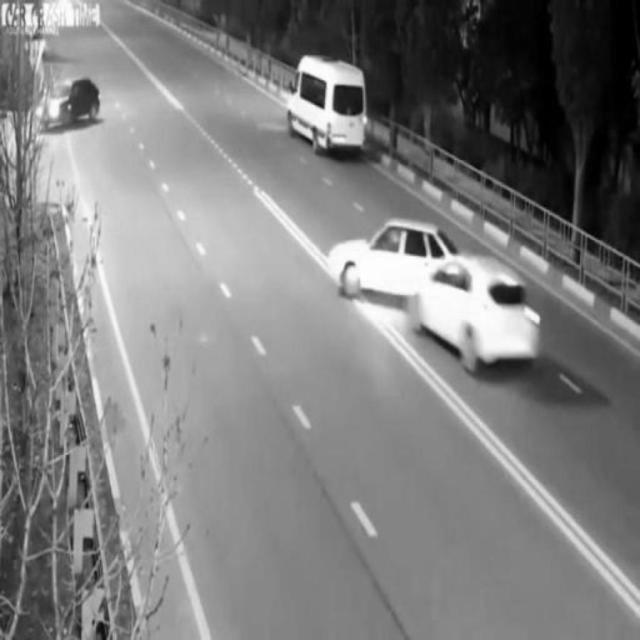accident: (326, 219, 544, 367)
vehicle: (286, 52, 368, 152), (36, 79, 100, 129)
